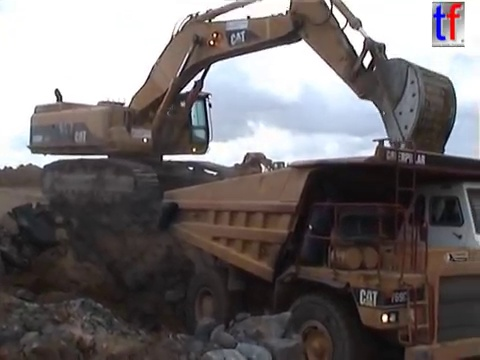excavator: (23, 1, 460, 210)
truck: (158, 134, 480, 358)
wheel loader: (241, 150, 301, 190)
